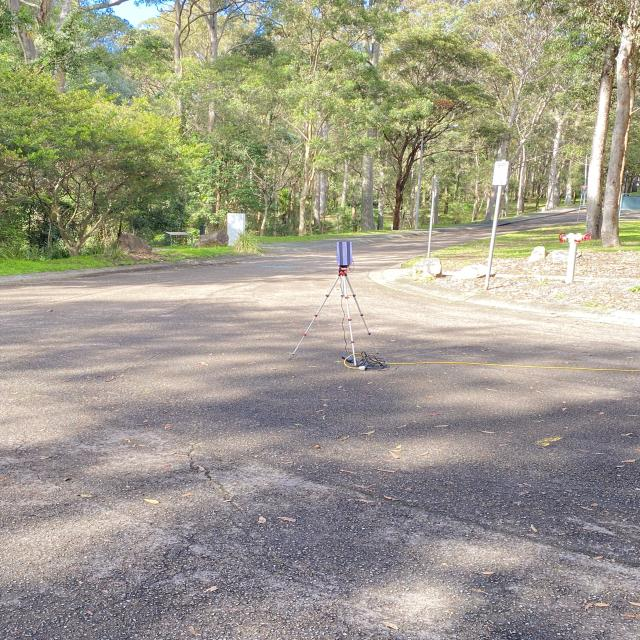matrix: (332, 238, 362, 272)
